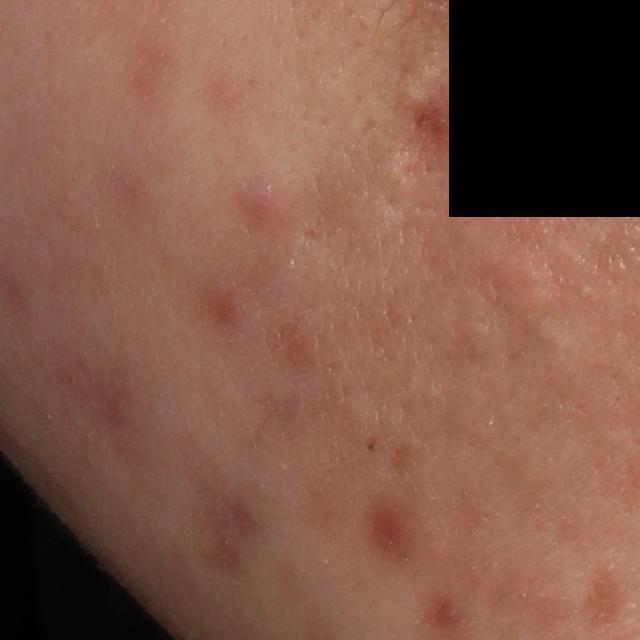hypertrophic_scar: (482, 241, 567, 347), (354, 152, 415, 250)
papule: (232, 177, 293, 231)
